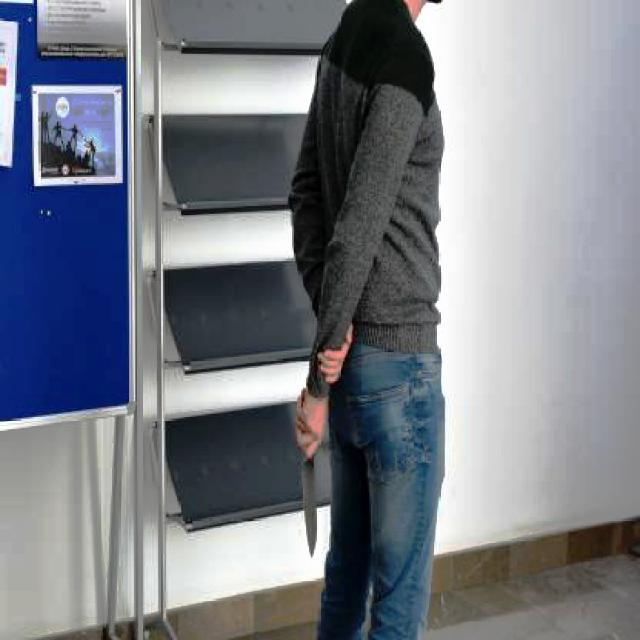Knife: (298, 438, 324, 564)
